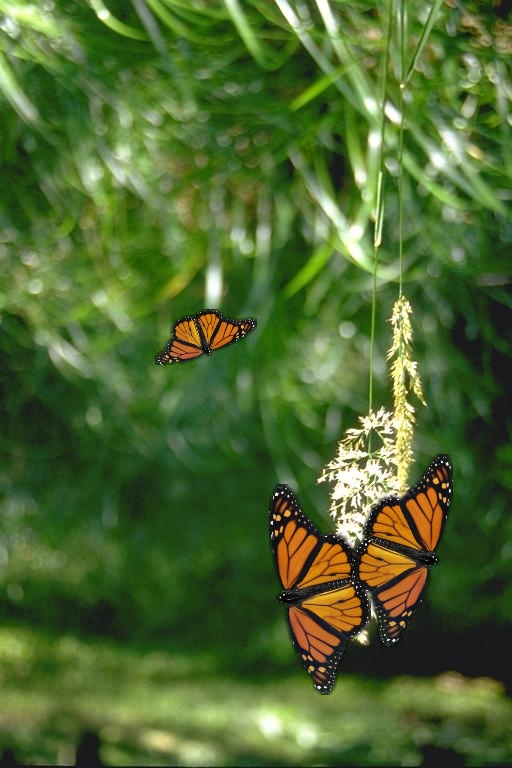danaus_plexippus: (269, 484, 371, 695), (351, 454, 453, 647), (155, 309, 257, 365)
